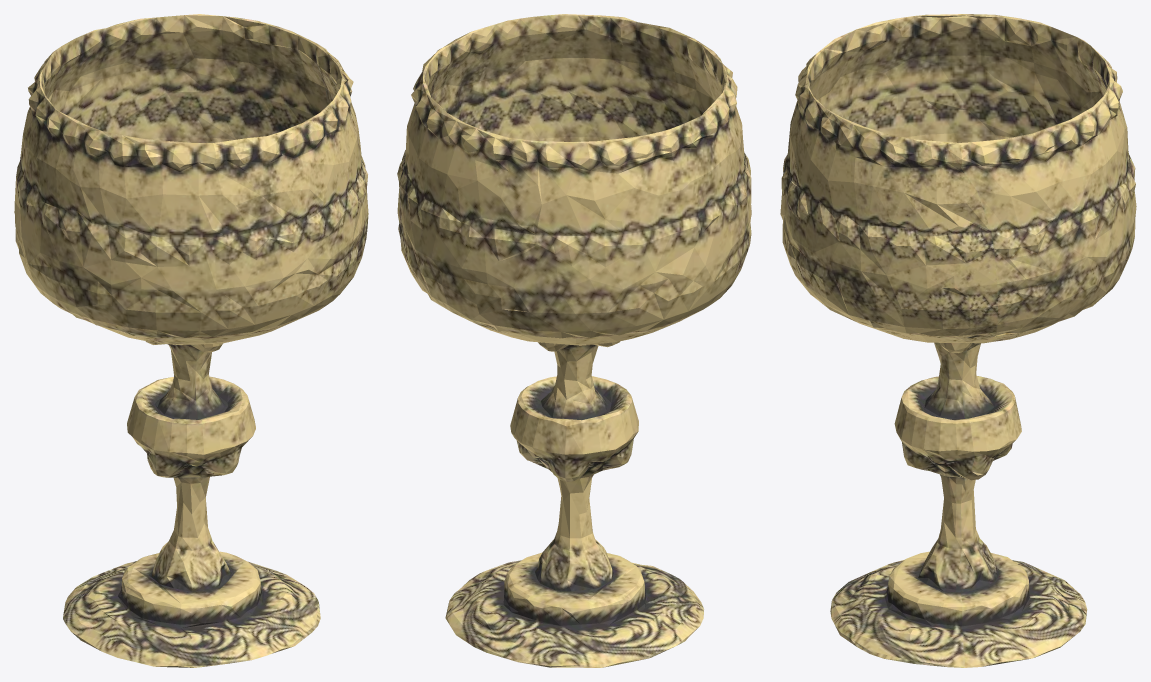
Rendered from calice.glb.
3 renders of one model, left to right at view 1: azimuth 30°, elevation 25°; view 2: azimuth 150°, elevation 25°; view 3: azimuth 270°, elevation 25°, orthographic.
Parts seen in each view (by area): view 1: Chalise01_LP; view 2: Chalise01_LP; view 3: Chalise01_LP.
Boxes of the visible parts, x1,y1,x2,y2 form: Chalise01_LP: (14,14,368,667); Chalise01_LP: (397,14,751,667); Chalise01_LP: (780,14,1136,667).
Bounding box in the file's own units: 14.39 × 24.14 × 14.38.
Materials: 1 (1 with a texture image).
